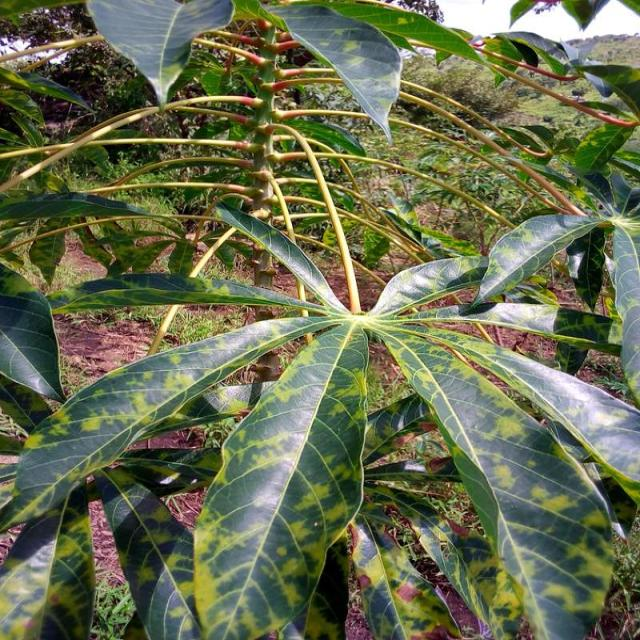cassava leaf: (2, 0, 640, 638), (375, 319, 620, 638), (193, 319, 371, 638)
